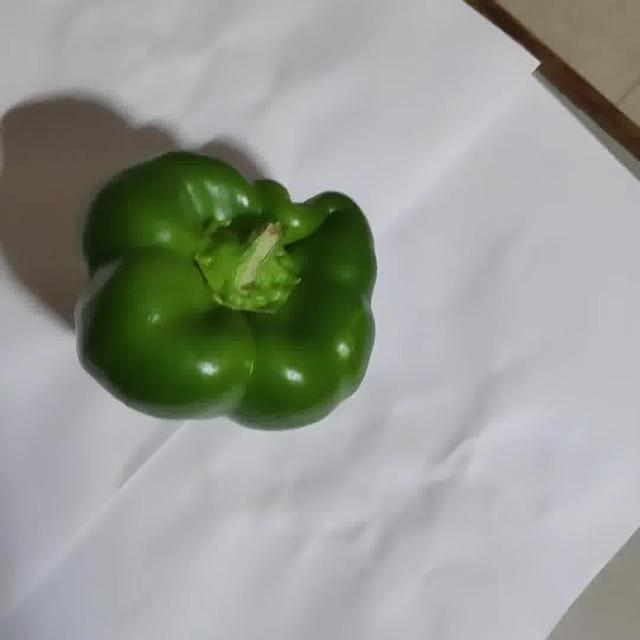Bell Pepper: (76, 152, 377, 430)
